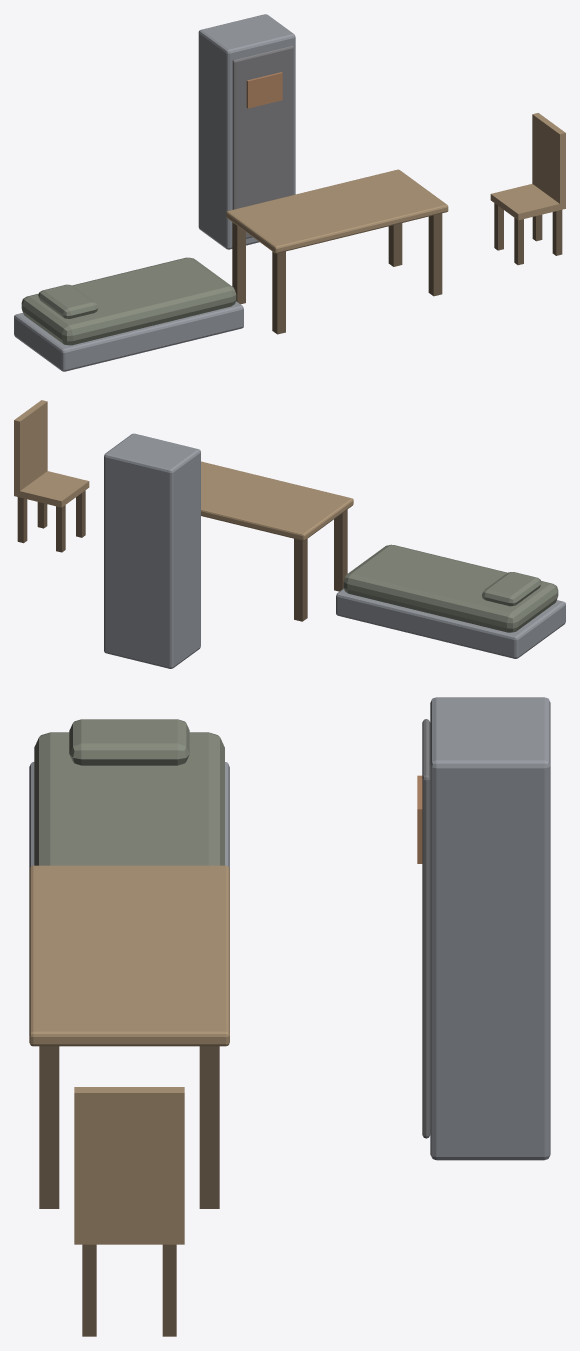
Rendered from prop_furniture.glb.
The picture shows the model from 3 angles, top to bottom: view 1: azimuth 30°, elevation 25°; view 2: azimuth 150°, elevation 25°; view 3: azimuth 270°, elevation 25°; orthographic projection. The views are drawn at different scales.
Visible parts, largest first — view 1: prop_furniture; view 2: prop_furniture; view 3: prop_furniture.
Boxes of the visible parts, x1,y1,x2,y2 form: prop_furniture: (14,14,565,371); prop_furniture: (14,400,565,668); prop_furniture: (29,697,550,1336).
Size of the model in its own units: 5.93 by 2.2 by 2.6.
